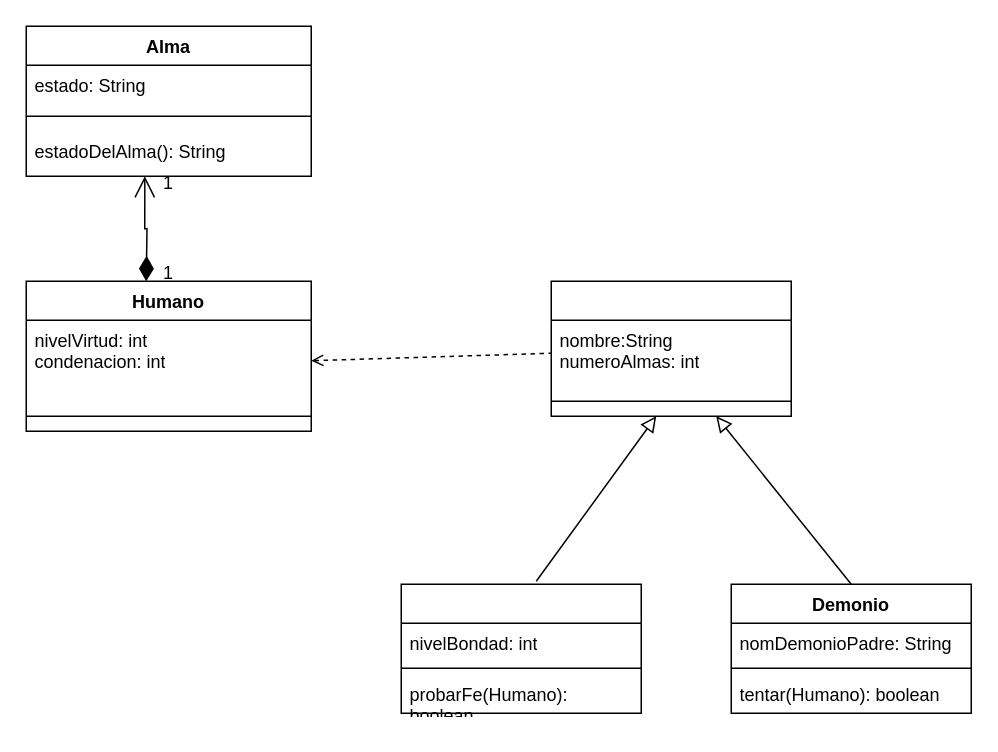
The diagram is 998 pixels wide and 752 high, and some of its shapes have lost their labels. Here are the shapes that lost their labels. From the top down, the box of each, then its label:
(550, 280, 791, 416): SerDivino
(400, 583, 641, 713): Angel
